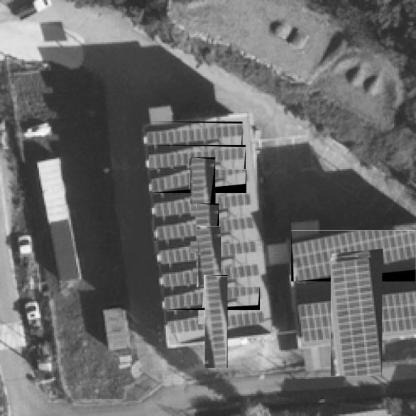solar-pv-panel: (292, 231, 415, 281), (331, 257, 382, 376), (155, 217, 251, 241), (164, 287, 260, 310), (148, 123, 242, 146), (152, 170, 246, 193), (149, 147, 246, 169), (199, 226, 220, 324), (205, 276, 227, 368), (191, 159, 208, 252), (196, 205, 212, 298)
